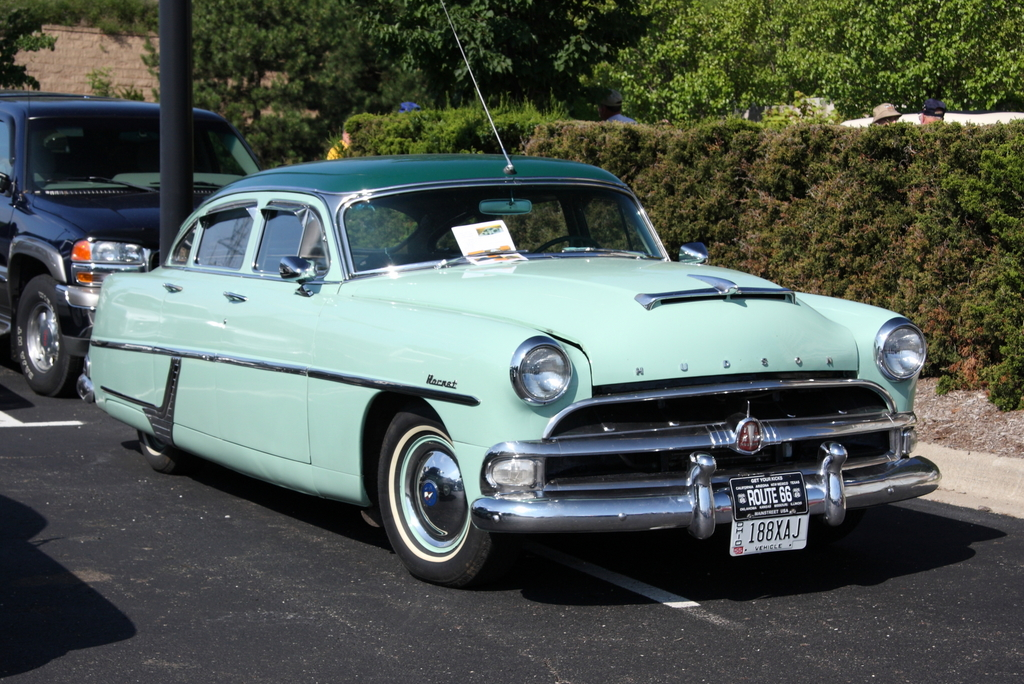Car: (76, 0, 944, 582), (0, 88, 267, 398)
